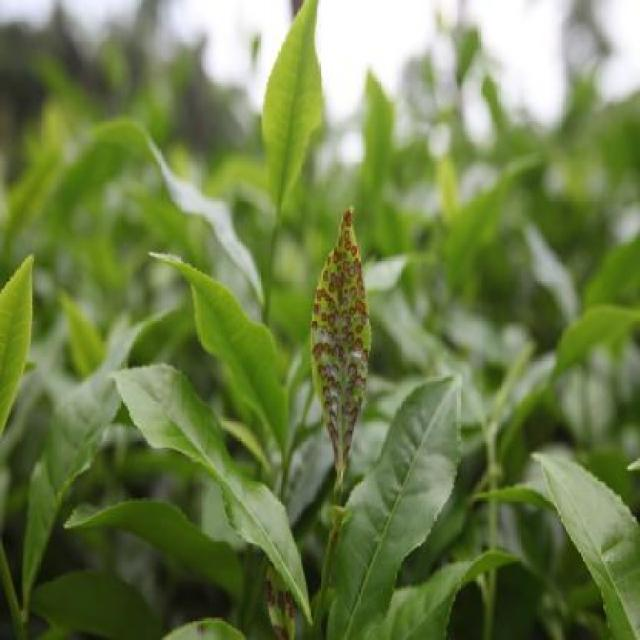Tea Mosquito bug infested leaf: (307, 200, 378, 466)
